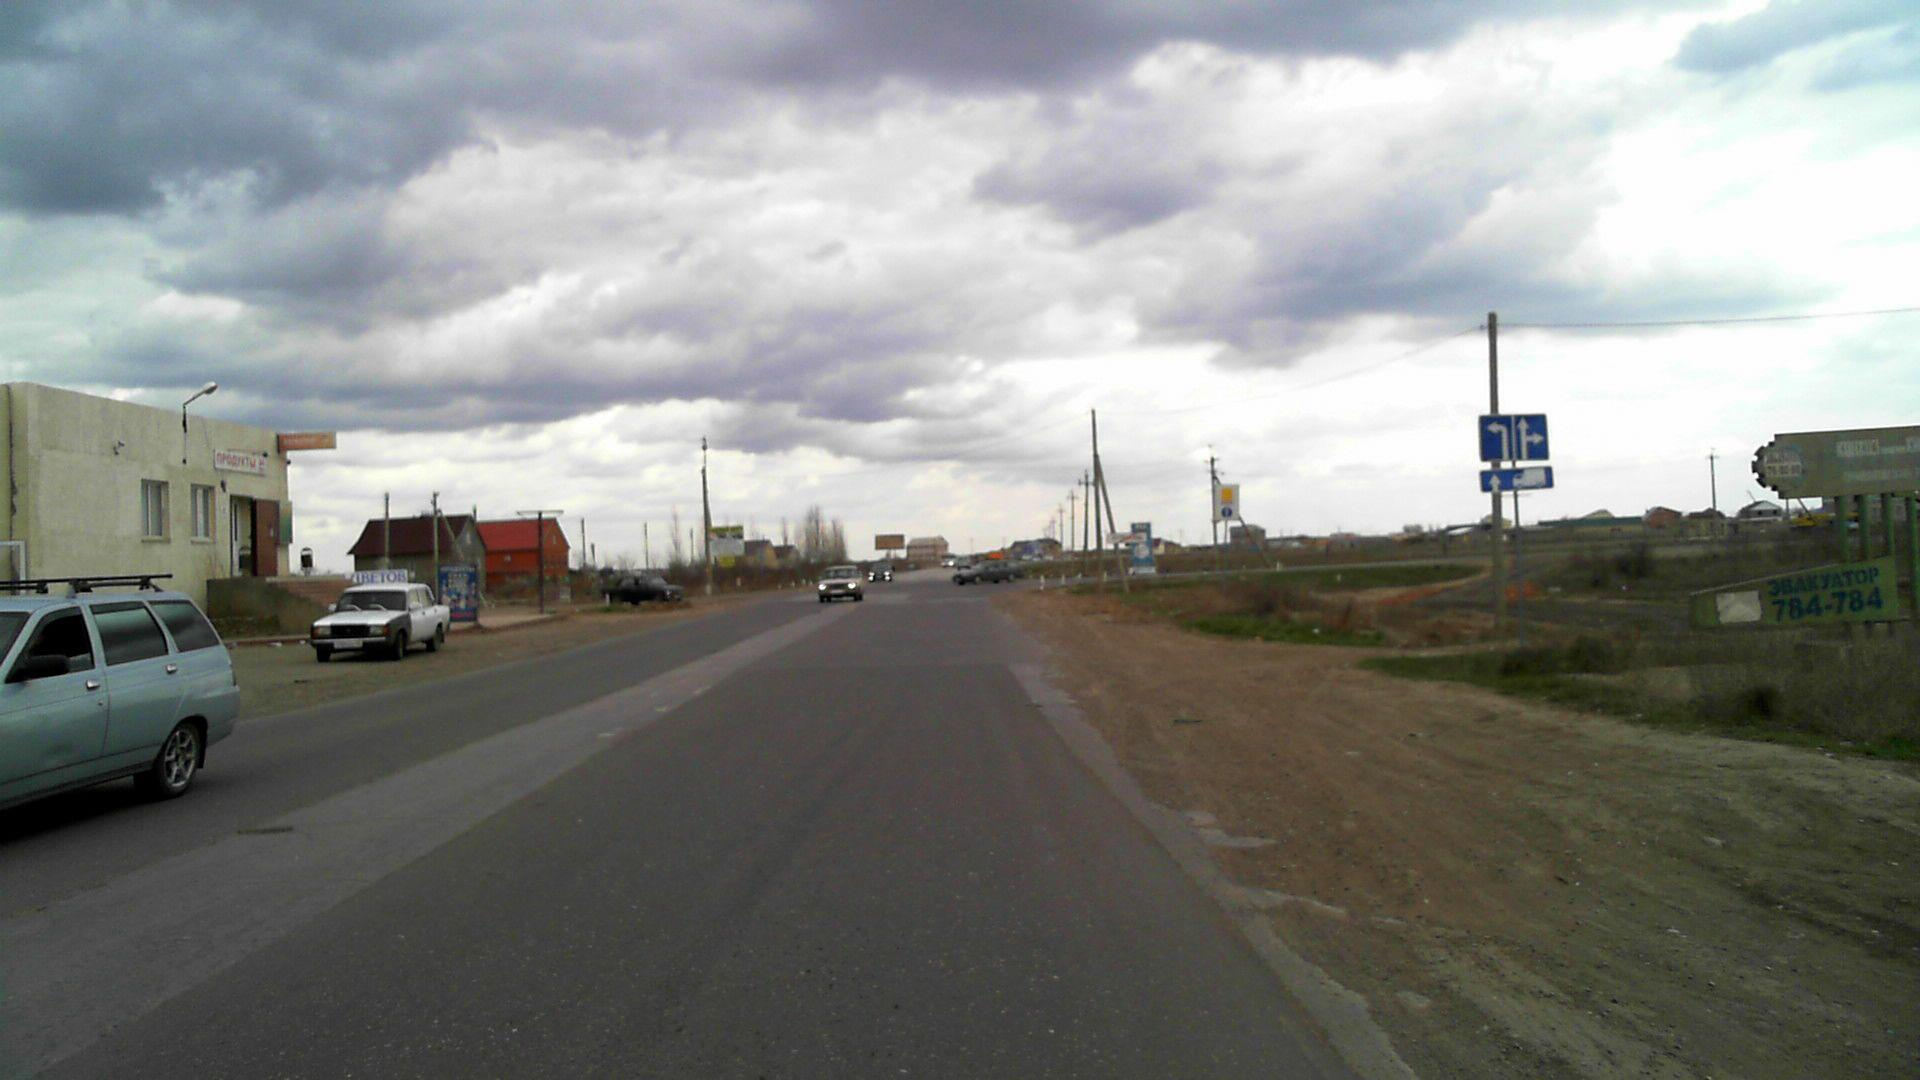4_8_1: (1215, 483, 1240, 520)
5_15_1: (1477, 413, 1552, 462)
5_24_1: (1105, 533, 1146, 543)
6_15_1: (1480, 467, 1553, 492)
